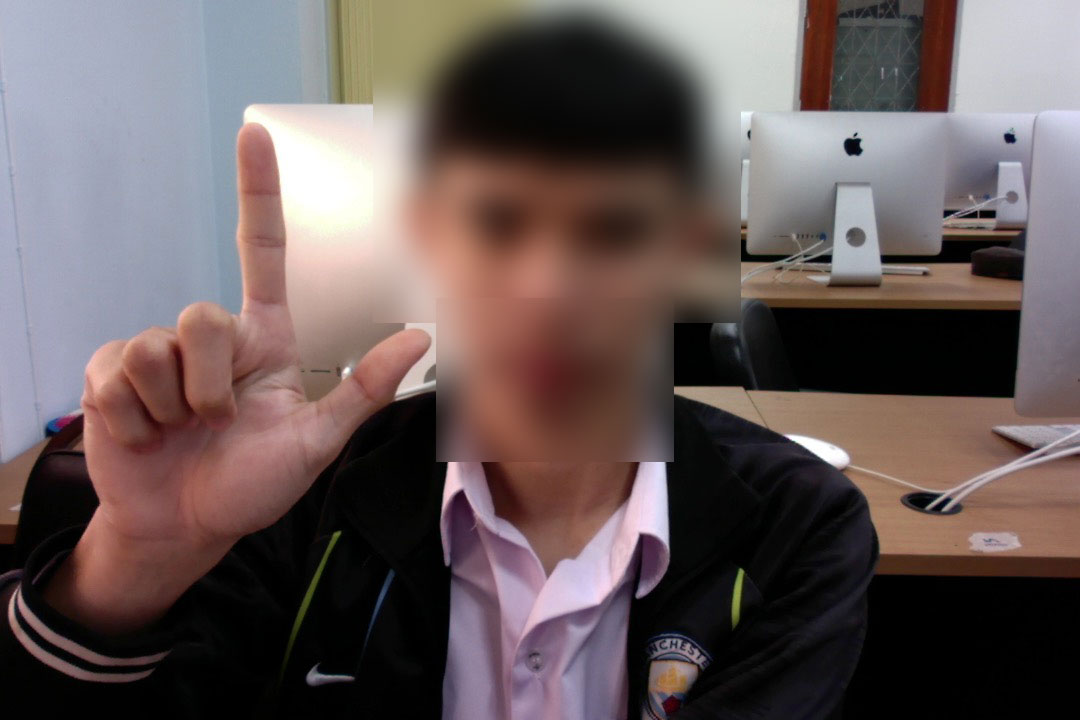lor: (53, 117, 442, 554)
